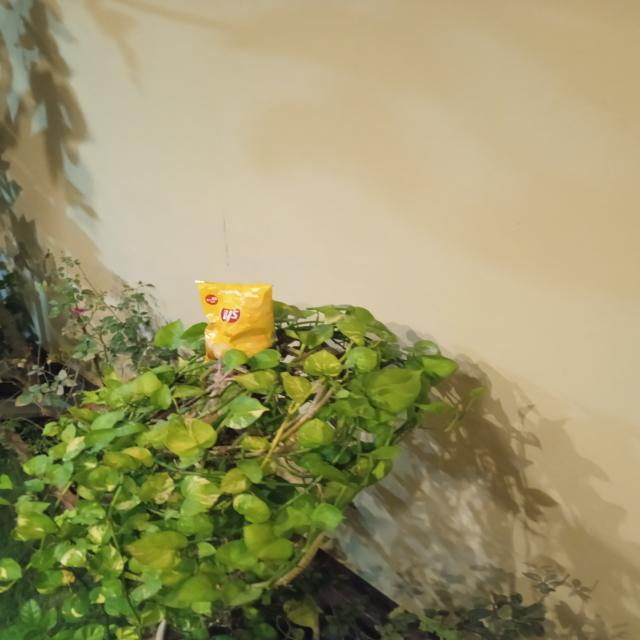Plastic: (192, 276, 286, 362)
